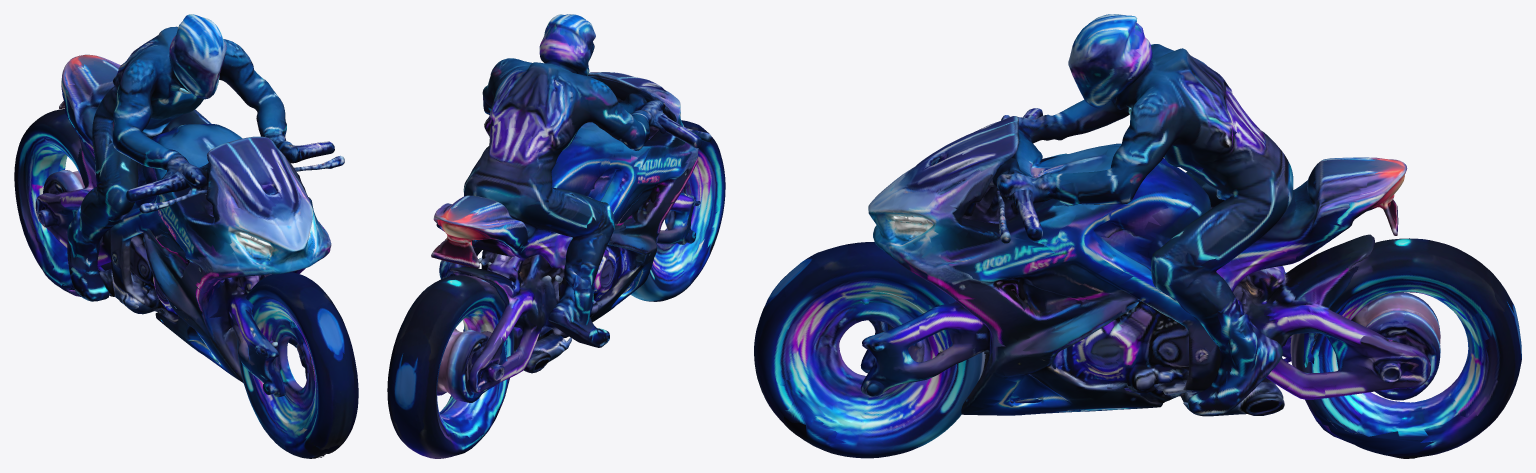
File: motor.fbx
3 renders of one model, left to right at view 1: azimuth 30°, elevation 25°; view 2: azimuth 150°, elevation 25°; view 3: azimuth 270°, elevation 25°, orthographic. The views are drawn at different scales.
Parts seen in each view (by area): view 1: body, wheelF, wheelB; view 2: body, wheelB, wheelF; view 3: body, wheelF, wheelB.
Part boxes in pixels (x1,y1,x2,y2): body: [35, 14, 344, 397]; wheelF: [237, 272, 358, 458]; wheelB: [14, 109, 111, 296]; body: [431, 14, 711, 402]; wheelB: [387, 275, 514, 458]; wheelF: [630, 120, 725, 301]; body: [860, 14, 1440, 416]; wheelF: [754, 242, 985, 458]; wheelB: [1290, 238, 1521, 458].
Size of the model in its own units: 36.67 by 60.82 by 96.65.
